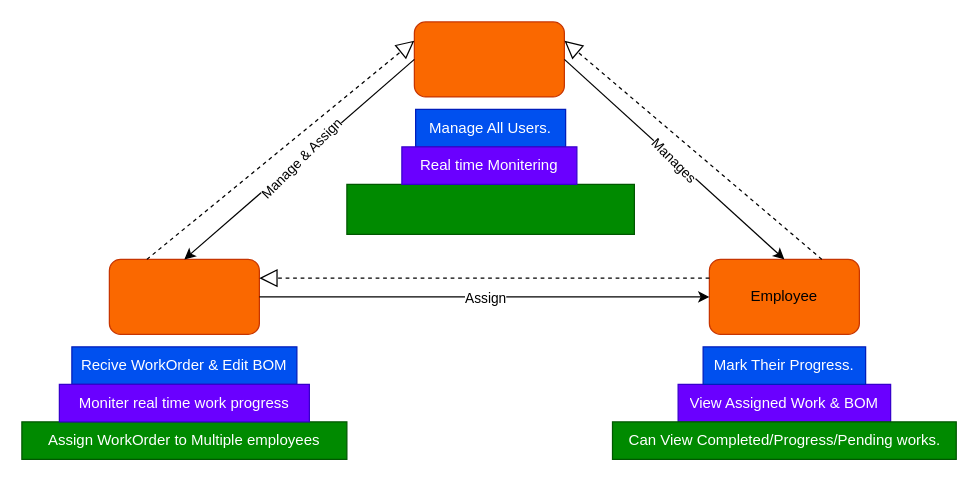
Some shapes in this 979 by 481 pixel diagram are drawn without their labels. Each missing label, with the centre of its shape:
Admin: the point at 488,59
Create Work Orders & Assign to managers: the point at 490,208
Manager/Department: the point at 183,296
